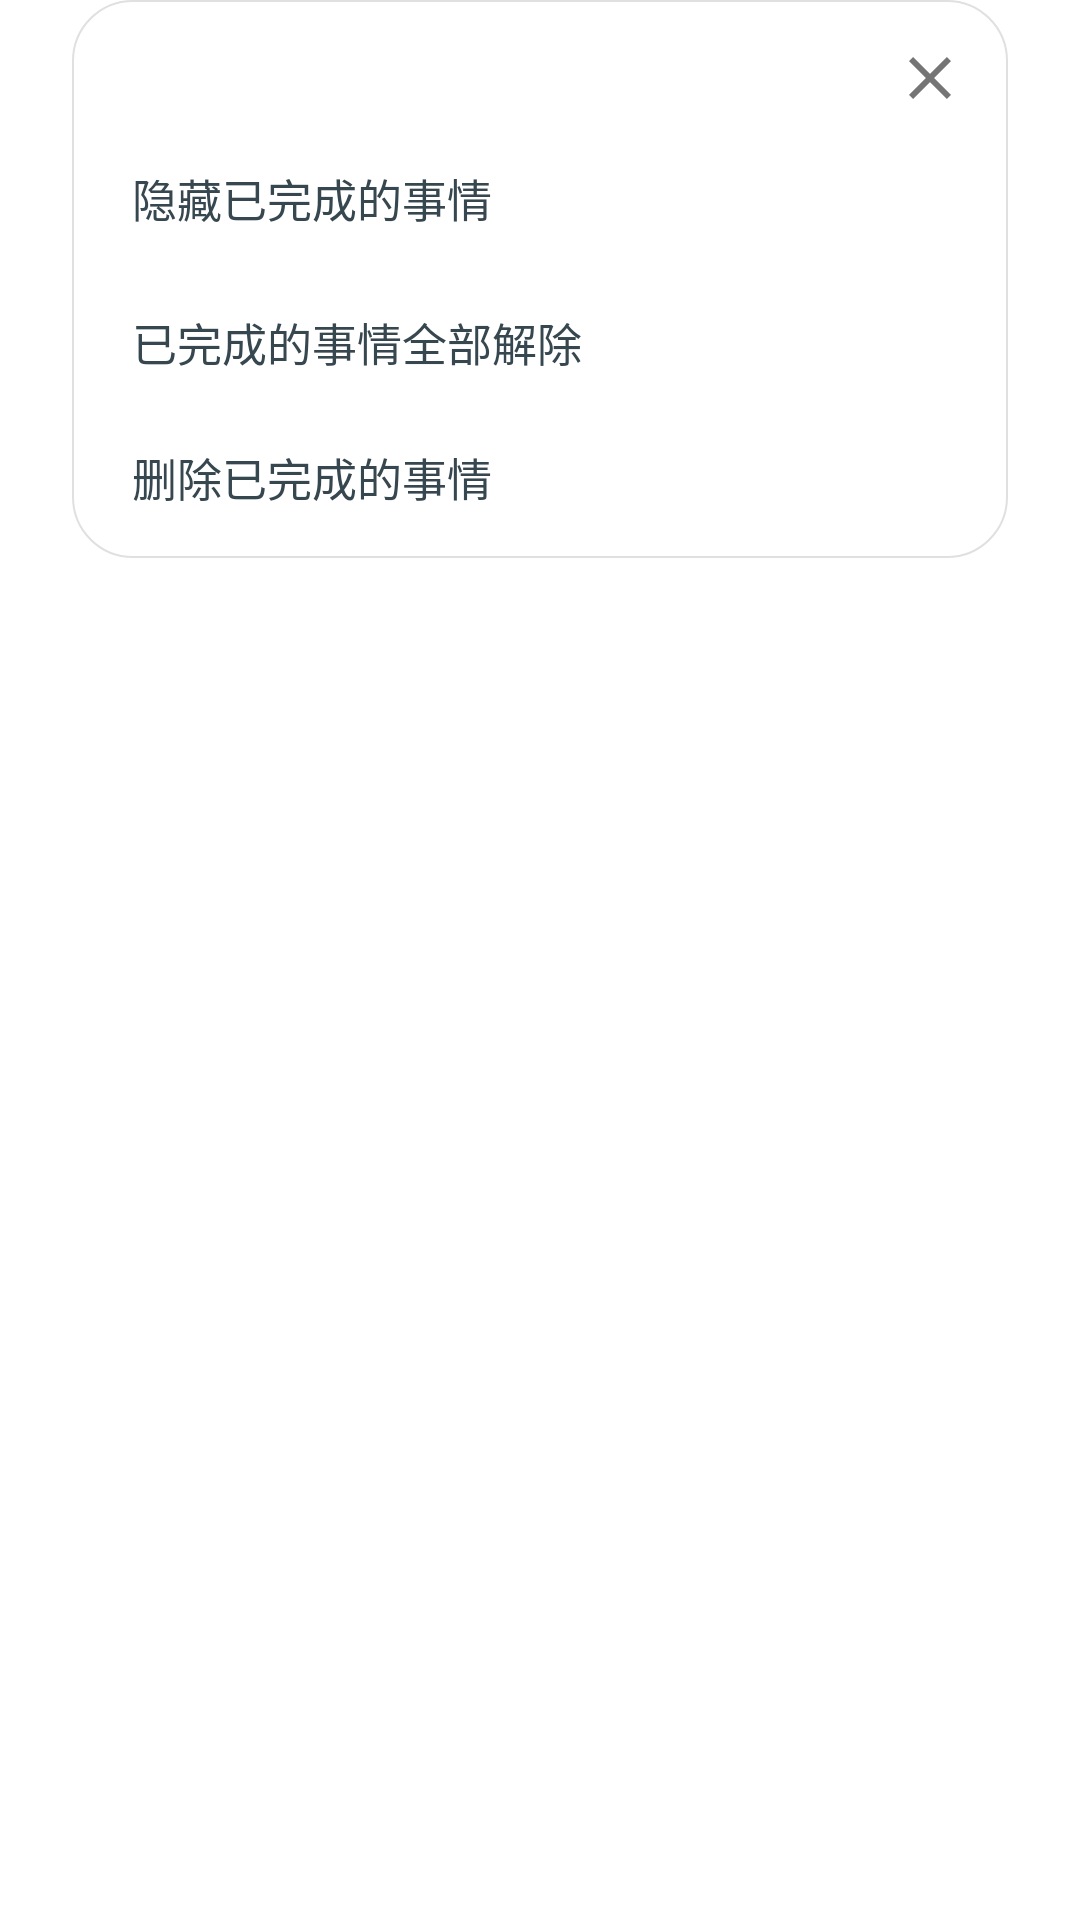

Named icons in this screenshot (1080x1920) and their bounding boxes, (x1, y1, x2, y2):
关闭: (909, 57, 951, 99)
